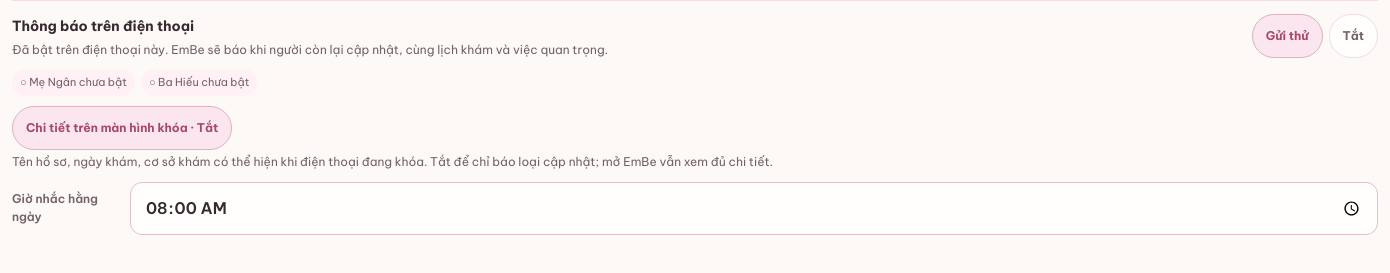
it: family notification setup › keeps preview off until the server confirms and preserves it on save failure
Click the switch at (122, 128), box [12,106,232,150]
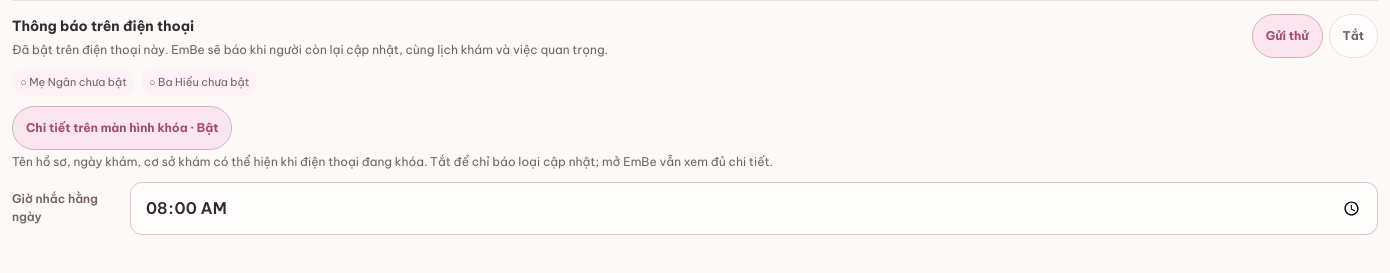
Expected: the switch is checked
Click the switch at (122, 128), box [12,106,232,150]
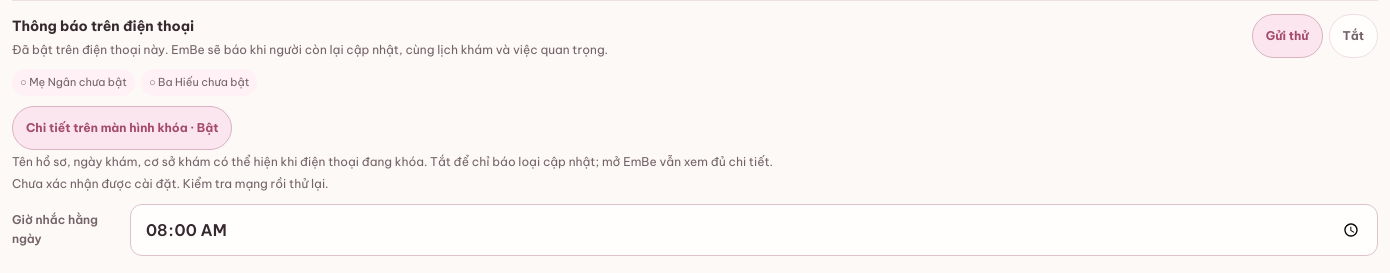
Expected: the text "Chưa xác nhận được cài đặt. Kiểm tra mạng rồi thử lại." is shown, [12,176,328,191]
